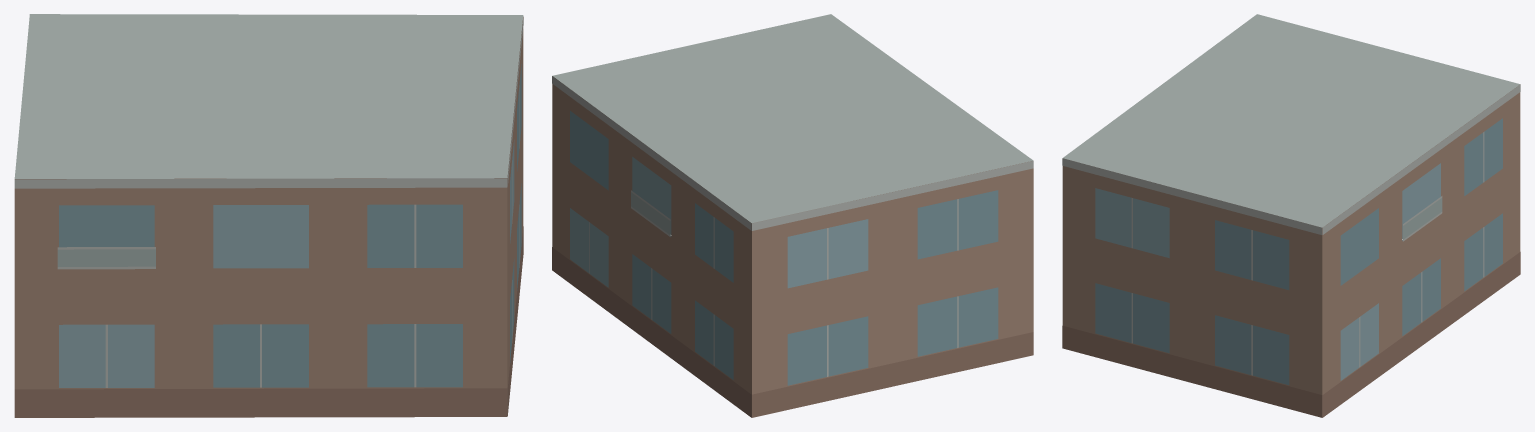
Rendered from survey-upis-32660167.glb.
3 renders of one model, left to right at view 1: azimuth 30°, elevation 25°; view 2: azimuth 150°, elevation 25°; view 3: azimuth 270°, elevation 25°, orthographic. The views are drawn at different scales.
Visible parts, largest first — view 1: survey-upis-32660167.tmp; view 2: survey-upis-32660167.tmp; view 3: survey-upis-32660167.tmp.
Part boxes in pixels (x1,y1,x2,y2): survey-upis-32660167.tmp: (14,14,523,417); survey-upis-32660167.tmp: (552,14,1033,417); survey-upis-32660167.tmp: (1062,14,1520,417).
Bounding box in the file's own units: 14.71 × 6.1 × 13.33.
